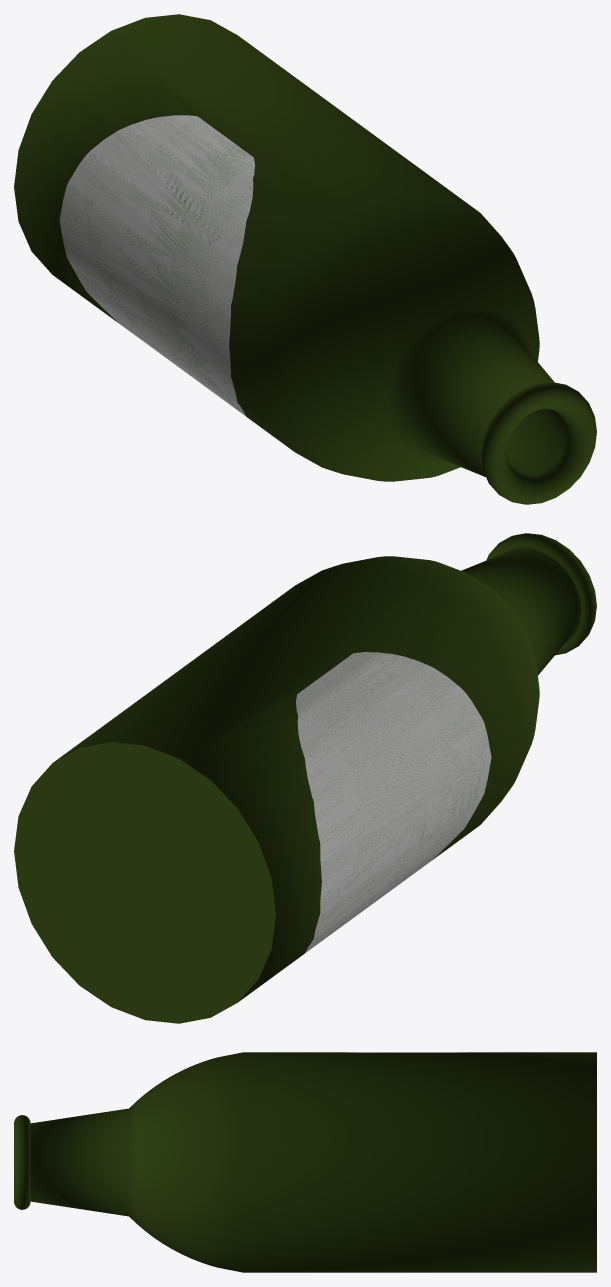
The model's file is model_scale.obj.
3 renders of one model, top to bottom at view 1: azimuth 30°, elevation 25°; view 2: azimuth 150°, elevation 25°; view 3: azimuth 270°, elevation 25°, orthographic. The views are drawn at different scales.
Visible parts, largest first — view 1: mesh1_mesh1-geometry; view 2: mesh1_mesh1-geometry; view 3: mesh1_mesh1-geometry.
Part boxes in pixels (x1,y1,x2,y2): mesh1_mesh1-geometry: (14, 14, 596, 504); mesh1_mesh1-geometry: (14, 533, 596, 1023); mesh1_mesh1-geometry: (14, 1052, 596, 1272).
Size of the model in its own units: 0.0544 by 0.0544 by 0.1435.
